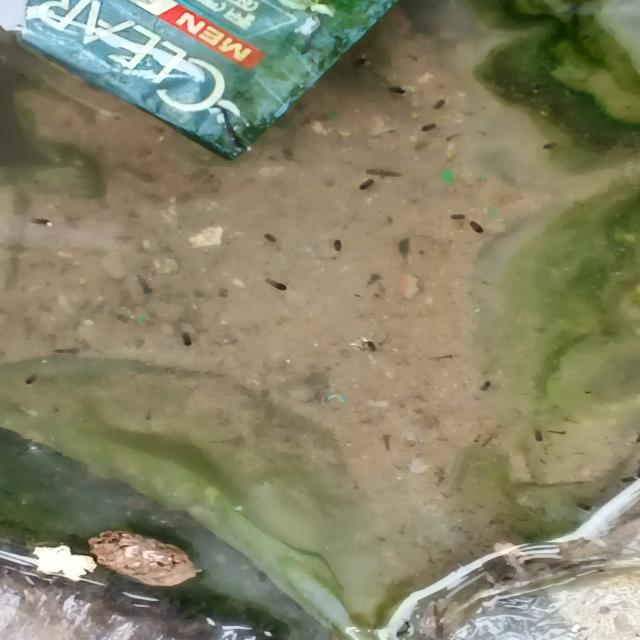Breeding Place: (0, 0, 640, 639)
